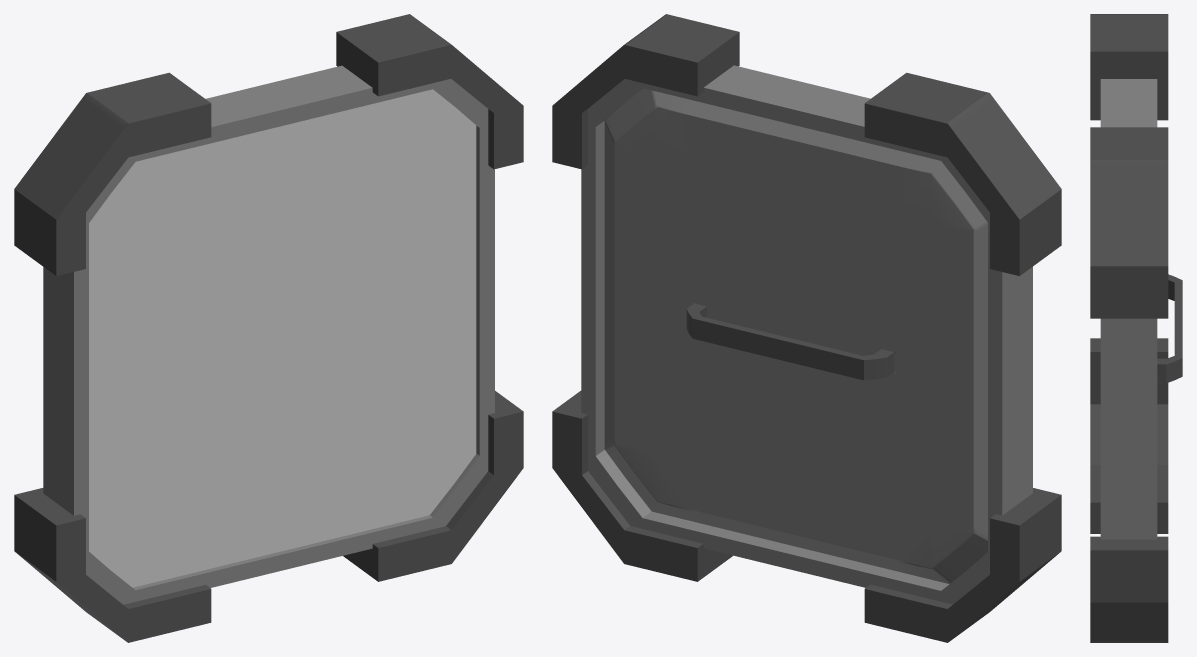
The model's file is mirror.fbx.
The picture shows the model from 3 angles, left to right: view 1: azimuth 30°, elevation 25°; view 2: azimuth 150°, elevation 25°; view 3: azimuth 270°, elevation 25°; orthographic projection. The views are drawn at different scales.
Visible parts, largest first — view 1: mirror_geo2, mirror_geo1; view 2: mirror_geo1; view 3: mirror_geo1.
Part boxes in pixels (left/top/right/bottom): mirror_geo2: left=89, top=89, right=476, bottom=587; mirror_geo1: left=14, top=14, right=523, bottom=642; mirror_geo1: left=552, top=14, right=1061, bottom=642; mirror_geo1: left=1090, top=14, right=1182, bottom=642.
Bounding box in the file's own units: 2.17 × 2.3 × 0.3991.
